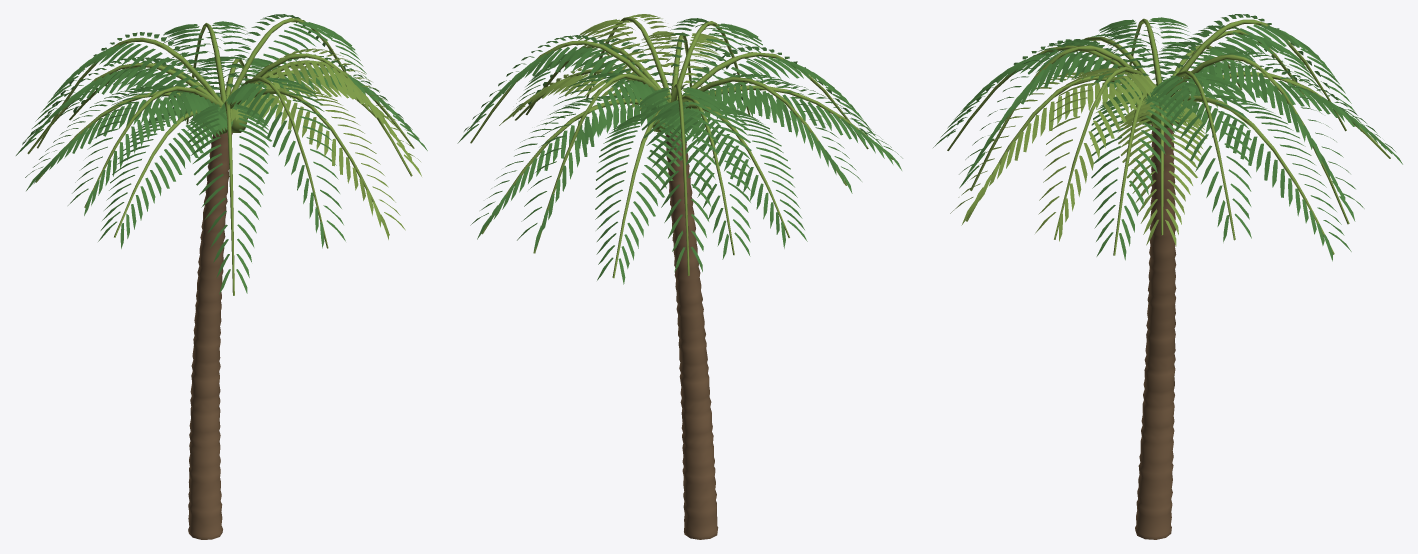
Rendered from PalmLOD1.fbx.
The picture shows the model from 3 angles, left to right: view 1: azimuth 30°, elevation 25°; view 2: azimuth 150°, elevation 25°; view 3: azimuth 270°, elevation 25°; orthographic projection. The views are drawn at different scales.
Visible parts, largest first — view 1: Palm LOD1; view 2: Palm LOD1; view 3: Palm LOD1.
Part boxes in pixels (x1,y1,x2,y2): Palm LOD1: (16, 14, 427, 539); Palm LOD1: (457, 14, 902, 539); Palm LOD1: (933, 14, 1402, 539).
Size of the model in its own units: 540 by 689 by 580.
